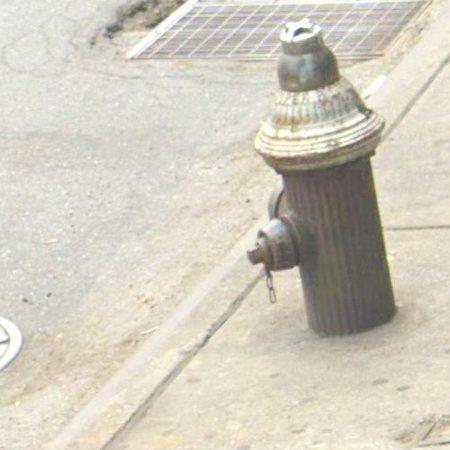a fire hydrant: (248, 18, 396, 336)
